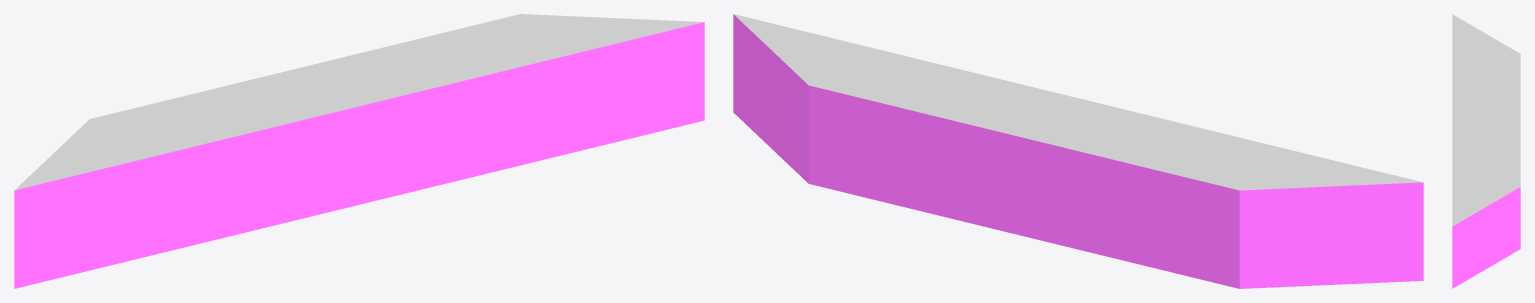
Rendered from BumperSide.fbx.
The picture shows the model from 3 angles, left to right: view 1: azimuth 30°, elevation 25°; view 2: azimuth 150°, elevation 25°; view 3: azimuth 270°, elevation 25°; orthographic projection. The views are drawn at different scales.
Parts seen in each view (by area): view 1: Cube; view 2: Cube; view 3: Cube.
Boxes of the visible parts, <box> form: Cube: <box>14,14,704,288</box>; Cube: <box>733,14,1423,288</box>; Cube: <box>1452,14,1520,288</box>.
Bounding box in the file's own units: 1468 × 200 × 200.
